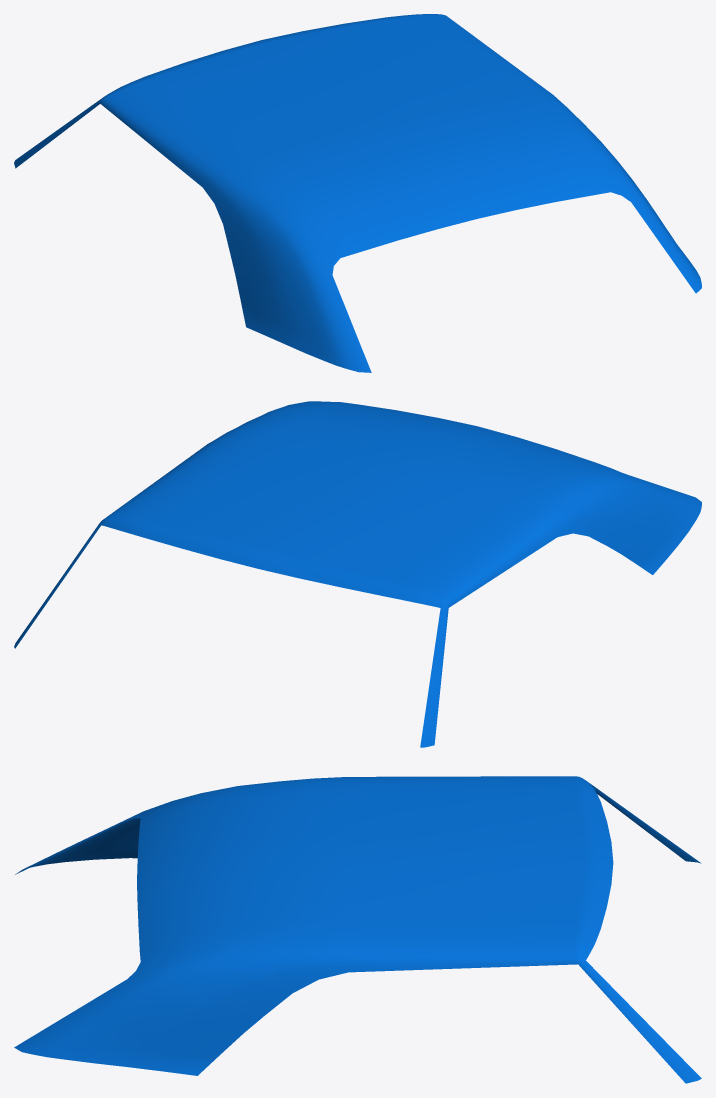
File: Camaro_Roof01_Duco.fbx
3 renders of one model, top to bottom at view 1: azimuth 30°, elevation 25°; view 2: azimuth 150°, elevation 25°; view 3: azimuth 270°, elevation 25°, orthographic. The views are drawn at different scales.
Parts seen in each view (by area): view 1: Camaro_Roof01_Duco; view 2: Camaro_Roof01_Duco; view 3: Camaro_Roof01_Duco.
Boxes of the visible parts, <box> form: Camaro_Roof01_Duco: <box>14,14,701,372</box>; Camaro_Roof01_Duco: <box>14,401,701,747</box>; Camaro_Roof01_Duco: <box>14,776,701,1083</box>.
Bounding box in the file's own units: 1.6 × 2.09 × 0.4061.
